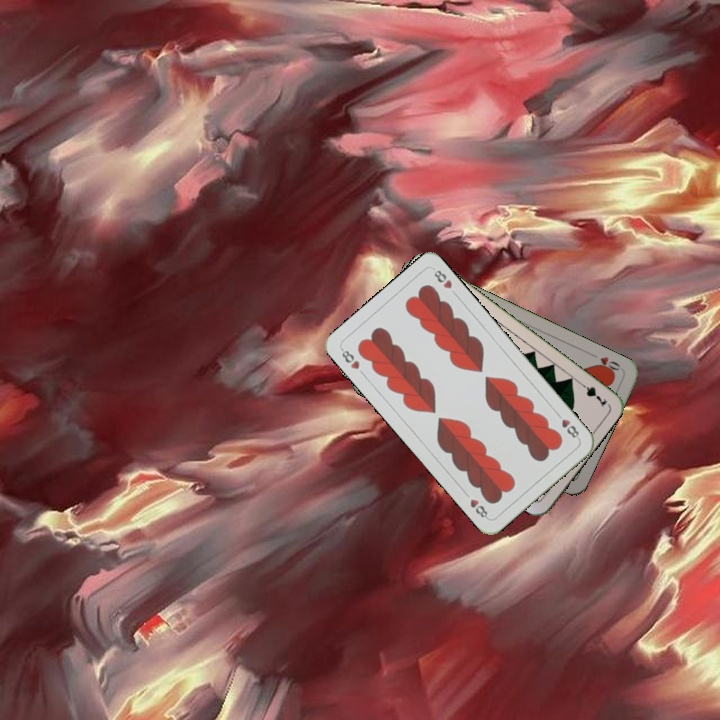G7: (575, 378, 610, 410)
H8: (552, 408, 582, 442), (337, 344, 362, 372)
HO: (586, 349, 623, 377)
